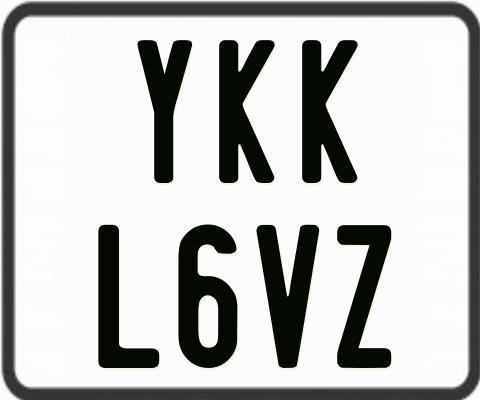6: (177, 222, 238, 370)
K: (216, 37, 277, 184), (299, 39, 356, 188)
L: (95, 223, 156, 367)
V: (256, 223, 320, 370)
Y: (135, 39, 194, 185)
Z: (337, 222, 397, 365)
